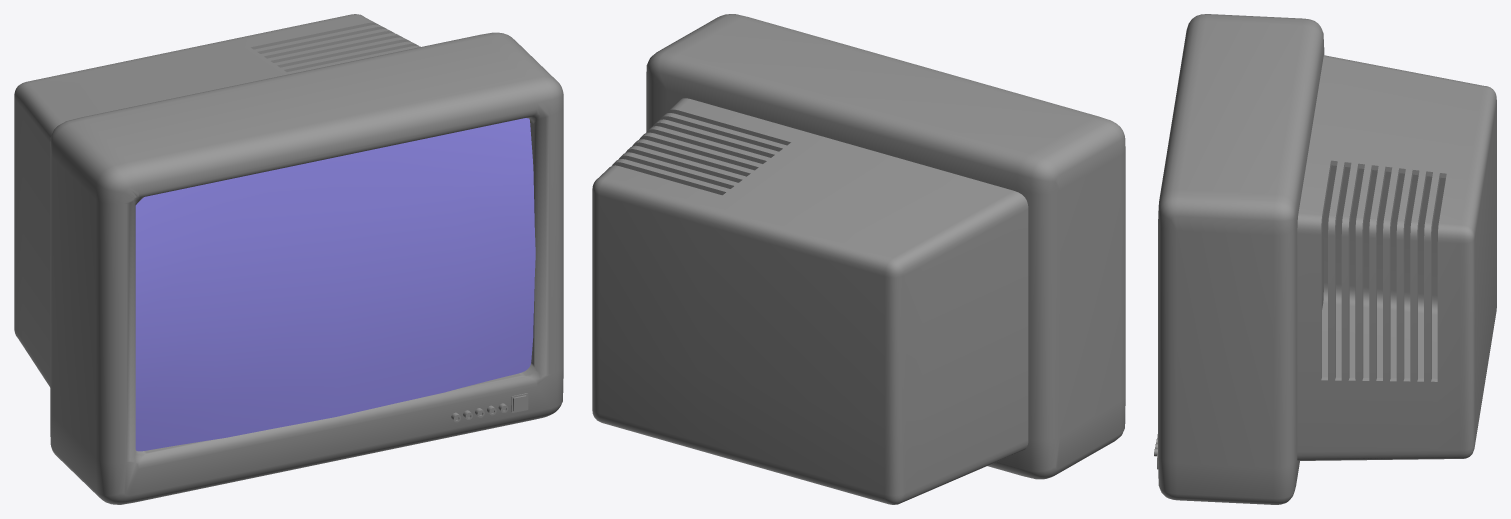
The model's file is Monitor1.FBX.
The picture shows the model from 3 angles, left to right: view 1: azimuth 30°, elevation 25°; view 2: azimuth 150°, elevation 25°; view 3: azimuth 270°, elevation 25°; orthographic projection. The views are drawn at different scales.
Parts seen in each view (by area): view 1: Monitor1; view 2: Monitor1; view 3: Monitor1.
Part boxes in pixels (x1,y1,x2,y2): Monitor1: (14, 14, 563, 504); Monitor1: (592, 14, 1125, 504); Monitor1: (1154, 14, 1496, 504).
Size of the model in its own units: 75.62 by 53.23 by 54.41.
